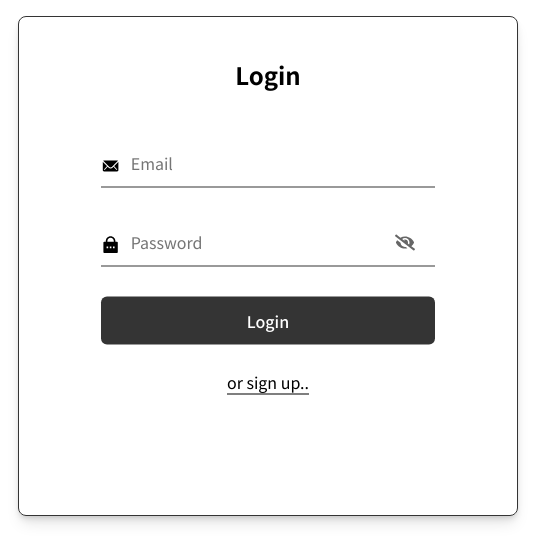
Login › パスワードマスク › マスク切り替えボタンをクリックでパスワードの表示/非表示
Step 1. Type "password" into the password field with placeholder "Password" → (268, 242), box [101, 218, 435, 266]
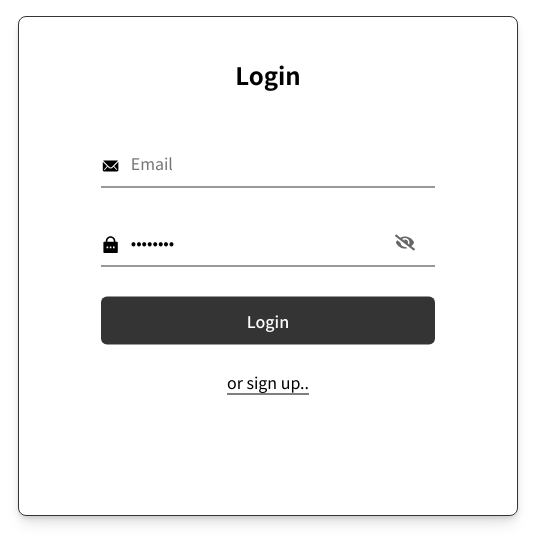
Step 2. Click the button named "パスワードを表示" → click(405, 242), box [387, 224, 423, 260]
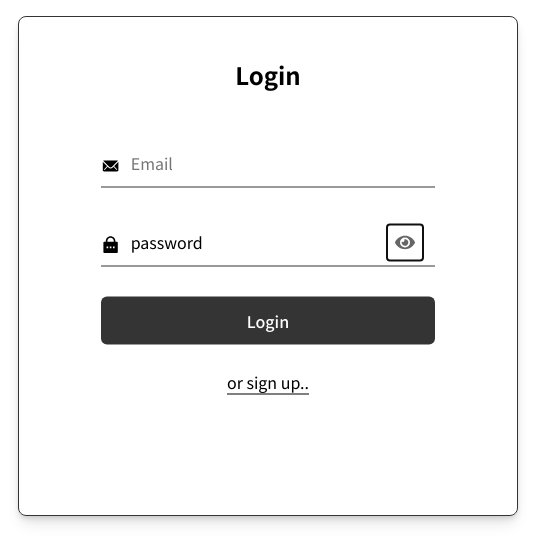
Expected: the field with placeholder "Password" shows its text, [101, 218, 435, 266]
Step 3. Click the button named "パスワードを表示" → click(405, 242), box [387, 224, 423, 260]
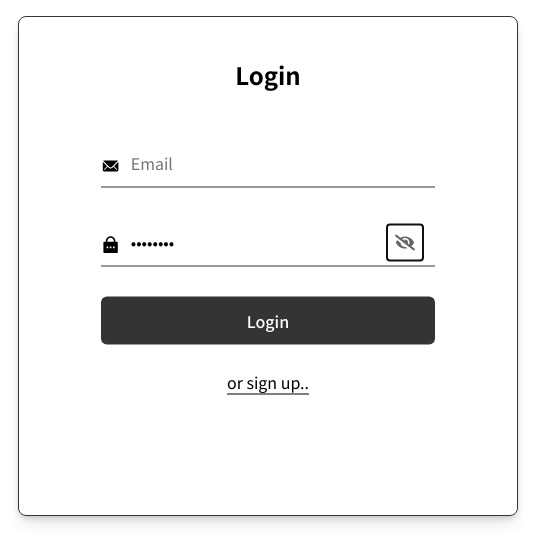
Expected: the password field with placeholder "Password" hides its text, [101, 218, 435, 266]
